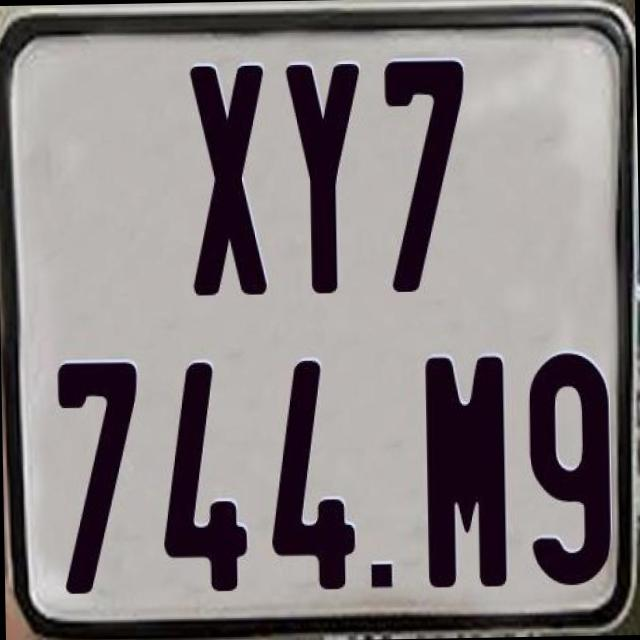4: (159, 356, 253, 592), (266, 356, 356, 590)
7: (55, 362, 143, 596), (384, 60, 471, 296)
9: (526, 347, 616, 580)
M: (424, 356, 512, 592)
X: (186, 65, 270, 298)
Y: (281, 59, 365, 298)
